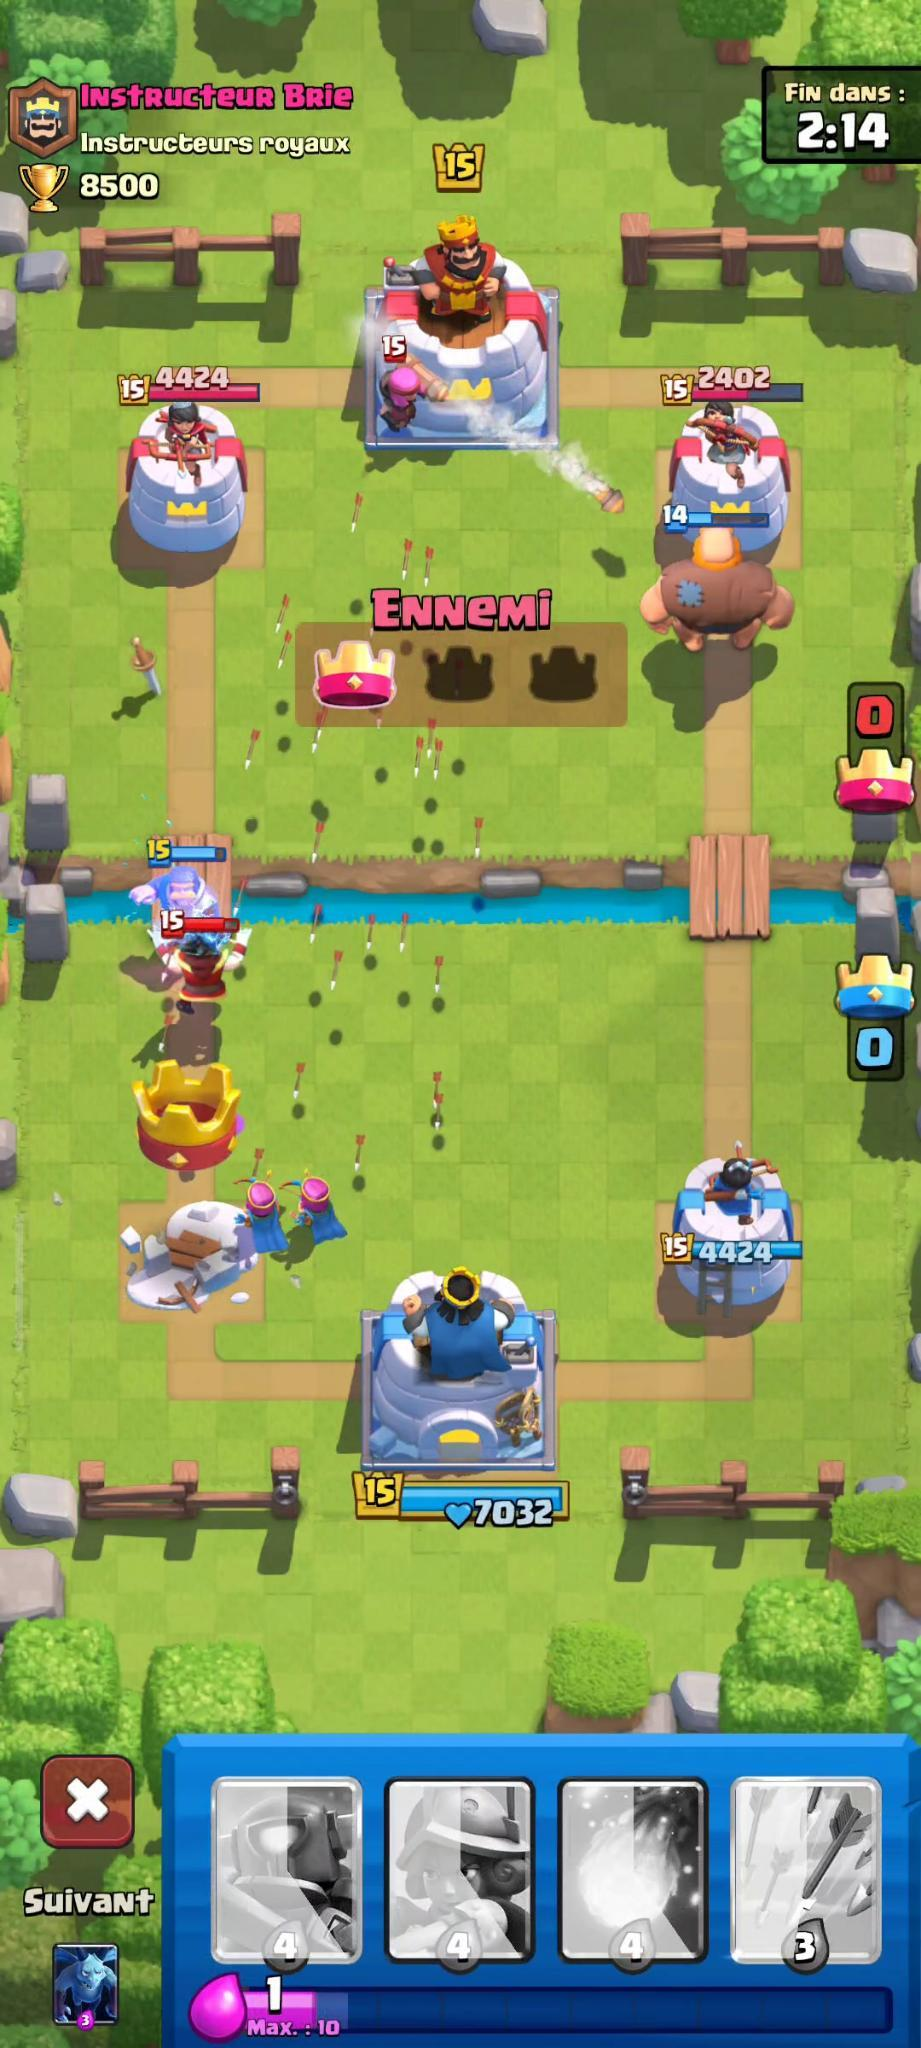enemy_arrows: (215, 475, 508, 1185)
enemy_electro_wizard: (140, 908, 265, 1028)
enemy_firecracker: (365, 322, 450, 440)
player_archers: (289, 1165, 352, 1256), (234, 1169, 292, 1261)
player_giant: (633, 513, 799, 662)
player_knight: (120, 818, 245, 915)
